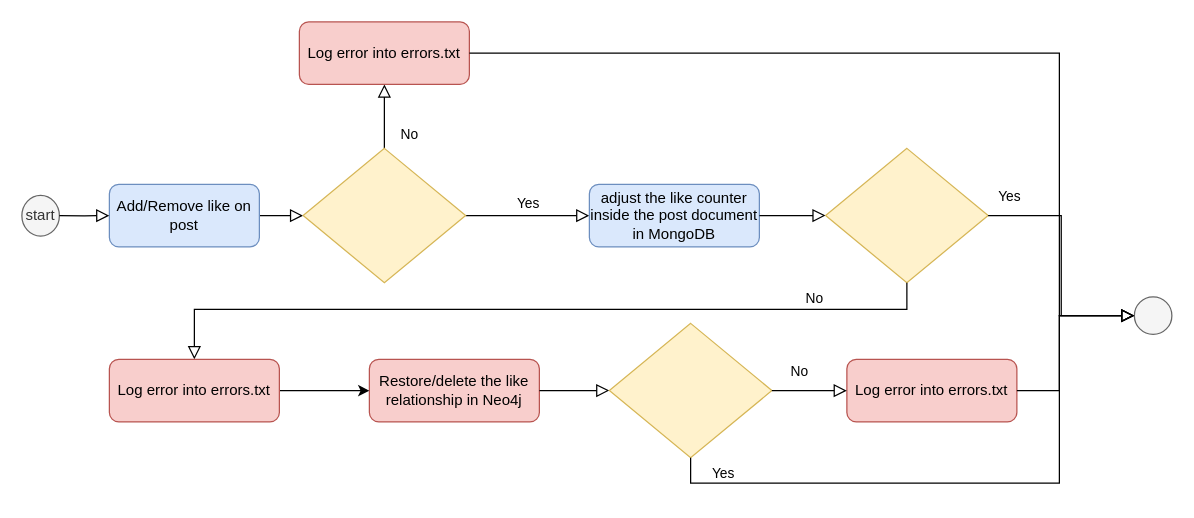
Some shapes in this 1194 by 518 pixel diagram are drawn without their labels. The box of each missing label's shape, as (x1, y1, x2, y2) in pixels:
end: (1133, 296, 1172, 334)
Like counter Successfully updated in MongoDB?: (824, 147, 988, 283)
Like Relation successfully added/removed from Neo4j?: (302, 147, 466, 283)
Relationship successfully restored/deleted?: (608, 322, 772, 458)
